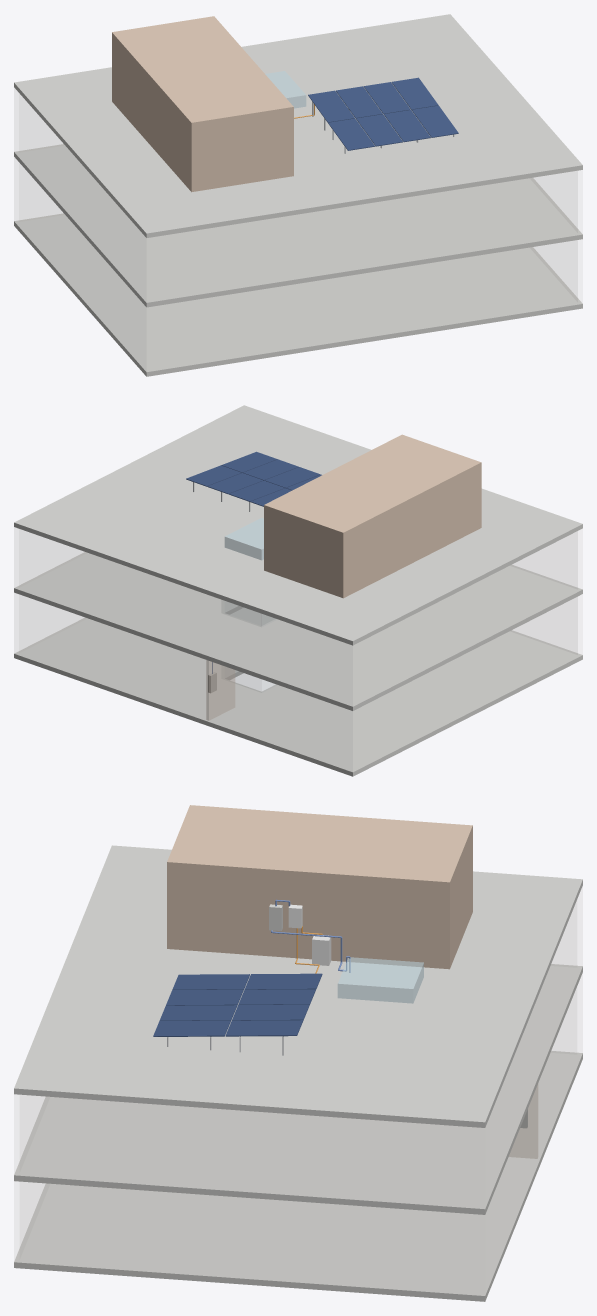
File: modelo.glb
The picture shows the model from 3 angles, top to bottom: view 1: azimuth 30°, elevation 25°; view 2: azimuth 150°, elevation 25°; view 3: azimuth 270°, elevation 25°; orthographic projection. The views are drawn at different scales.
Parts seen in each view (by area): view 1: cubierta-01, losa-piso-m1, losa-piso-m2, cubierta-02, fachada-inferior, modulo-005, modulo-006, modulo-008, modulo-007, modulo-002, modulo-003, modulo-004 (+2 smaller); view 2: cubierta-01, losa-piso-m2, losa-piso-m1, cubierta-02, fachada-inferior, muro-piso-inferior, vacio-claraboya, claraboya-01, modulo-002, modulo-003, modulo-004, modulo-007 (+2 smaller); view 3: cubierta-01, losa-piso-m1, losa-piso-m2, cubierta-02, fachada-inferior, claraboya-01, modulo-004, modulo-008, modulo-003, modulo-006, modulo-001, modulo-002 (+3 smaller).
Part boxes in pixels (x1,y1,x2,y2): cubierta-01: (14, 14, 582, 237); losa-piso-m1: (14, 144, 582, 307); losa-piso-m2: (14, 213, 582, 376); cubierta-02: (112, 16, 293, 192); fachada-inferior: (19, 93, 577, 302); modulo-005: (328, 118, 375, 150); modulo-006: (356, 114, 402, 146); modulo-008: (411, 105, 458, 137); modulo-007: (384, 110, 430, 142); modulo-002: (336, 86, 382, 118); modulo-003: (363, 82, 410, 114); modulo-004: (391, 77, 438, 109); cubierta-01: (14, 405, 582, 645); losa-piso-m2: (14, 607, 582, 776); losa-piso-m1: (14, 552, 582, 710); cubierta-02: (264, 434, 481, 598); fachada-inferior: (19, 529, 577, 655); muro-piso-inferior: (206, 660, 234, 720); vacio-claraboya: (222, 600, 276, 691); claraboya-01: (224, 518, 263, 560); modulo-002: (229, 480, 284, 501); modulo-003: (207, 473, 263, 494); modulo-004: (186, 465, 241, 486); modulo-007: (243, 459, 298, 480); cubierta-01: (14, 845, 582, 1127); losa-piso-m1: (14, 964, 582, 1214); losa-piso-m2: (14, 1051, 582, 1301); cubierta-02: (167, 805, 472, 969); fachada-inferior: (19, 900, 577, 1259); claraboya-01: (337, 957, 423, 1003); modulo-004: (225, 1020, 303, 1036); modulo-008: (153, 1020, 230, 1036); modulo-003: (232, 1004, 309, 1020); modulo-006: (166, 989, 243, 1005); modulo-001: (244, 973, 322, 989); modulo-002: (238, 989, 315, 1004).
Bounding box in the file's own units: 20.5 × 9.2 × 17.8.
